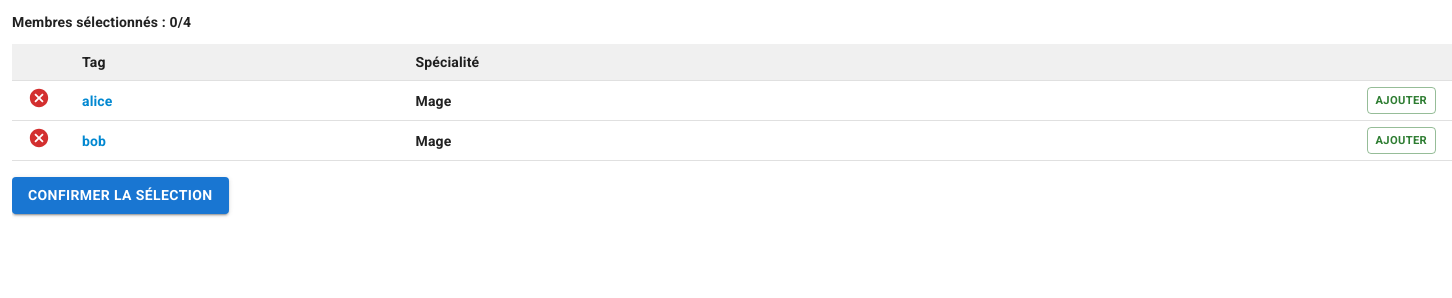
Scenario: SelectionMemberList › handleConfirm shows plural error when multiple conflicting members
Click the button "Ajouter" in the row of "alice": (1401, 100) [1366, 87, 1436, 114]
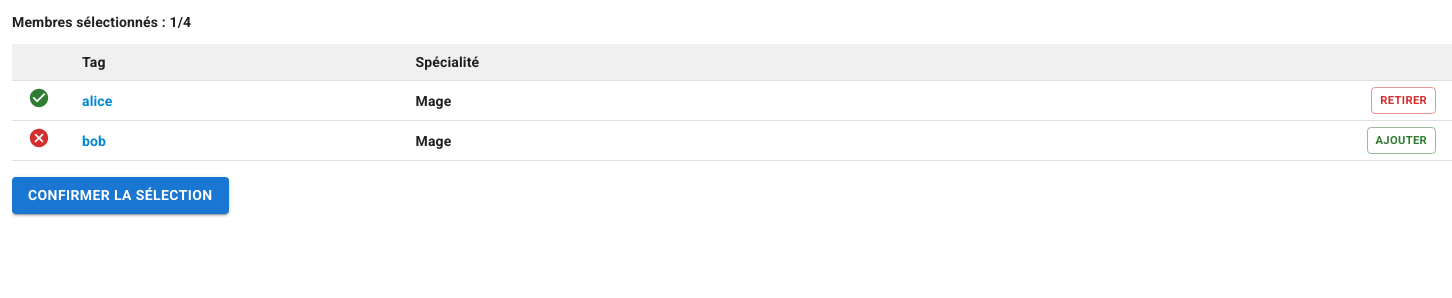
Click the button "Ajouter": (1401, 140) [1366, 127, 1436, 154]
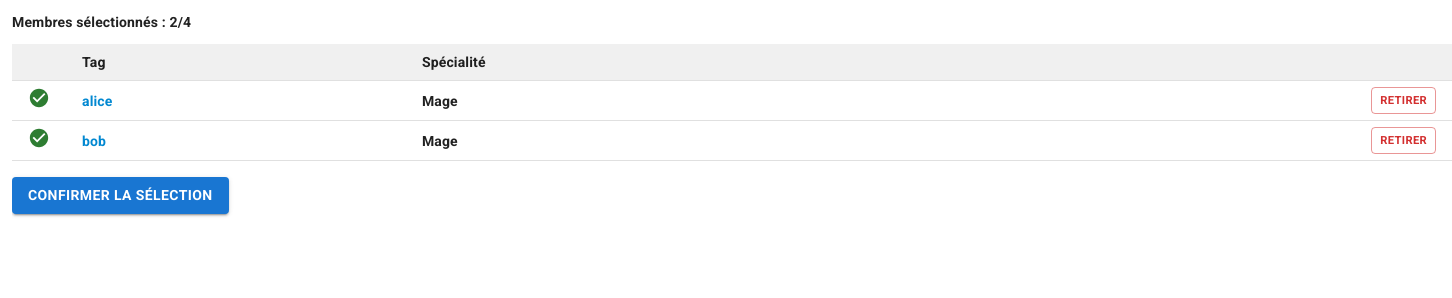
Click the button "Confirmer la sélection": (120, 195) [12, 177, 229, 214]
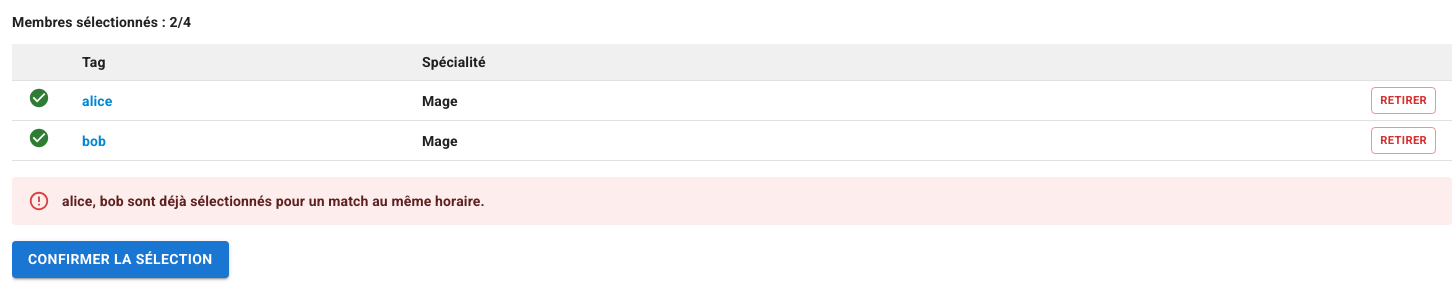
Now the text "sont déjà sélectionnés" is shown, box [62, 193, 485, 209]
